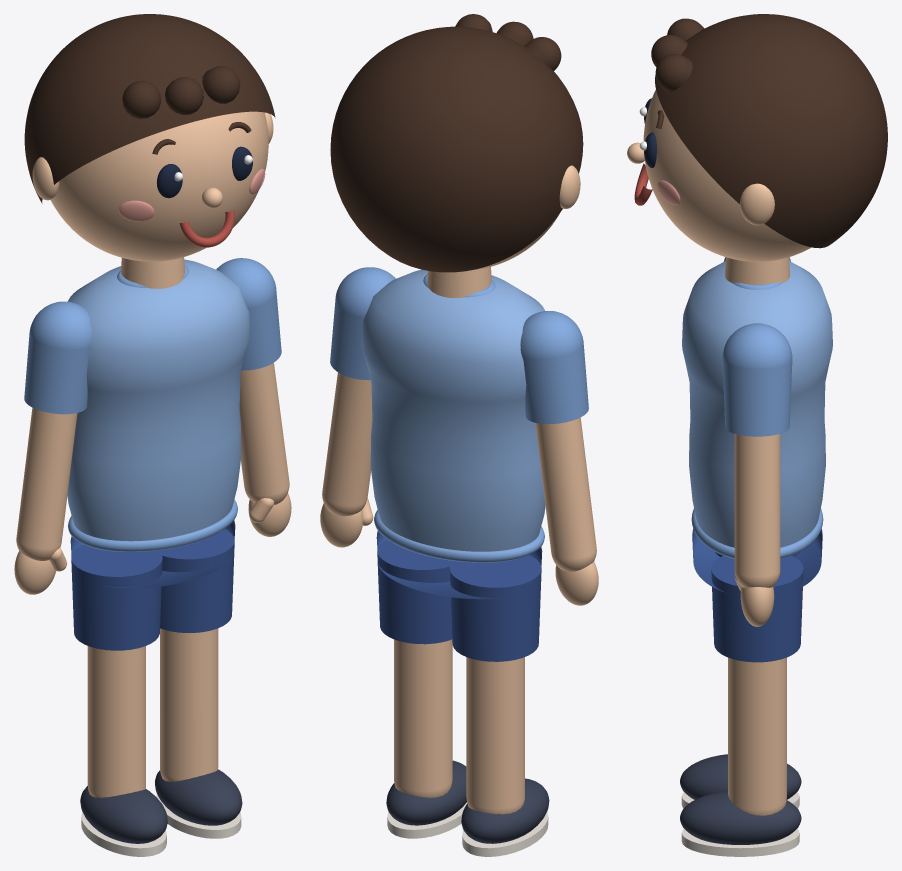
The model's file is boneco-provisorio-menino.glb.
The picture shows the model from 3 angles, left to right: view 1: azimuth 30°, elevation 25°; view 2: azimuth 150°, elevation 25°; view 3: azimuth 270°, elevation 25°; orthographic projection.
Visible parts, largest first — view 1: regiao_pernas, fixo_detalhe (×7), regiao_peito, regiao_bracos, regiao_cabeca, regiao_barriga, regiao_pes, regiao_maos, regiao_garganta; view 2: fixo_detalhe (×3), regiao_pernas, regiao_peito, regiao_bracos, regiao_barriga, regiao_pes, regiao_maos, regiao_garganta, regiao_cabeca; view 3: fixo_detalhe (×4), regiao_pernas, regiao_peito, regiao_bracos, regiao_barriga, regiao_cabeca, regiao_pes, regiao_garganta, regiao_maos.
Part boxes in pixels (left/top/right/bottom): regiao_pernas: left=70, top=520, right=235, bottom=797; fixo_detalhe (×7): left=24, top=14, right=275, bottom=247; regiao_peito: left=68, top=259, right=250, bottom=430; regiao_bracos: left=16, top=258, right=289, bottom=560; regiao_cabeca: left=32, top=111, right=273, bottom=261; regiao_barriga: left=67, top=393, right=241, bottom=551; regiao_pes: left=80, top=769, right=242, bottom=856; regiao_maos: left=14, top=493, right=291, bottom=594; regiao_garganta: left=121, top=257, right=184, bottom=288; fixo_detalhe (×3): left=330, top=21, right=583, bottom=272; regiao_pernas: left=376, top=531, right=542, bottom=814; regiao_peito: left=361, top=269, right=544, bottom=440; regiao_bracos: left=322, top=267, right=596, bottom=571; regiao_barriga: left=370, top=403, right=545, bottom=562; regiao_pes: left=386, top=760, right=549, bottom=856; regiao_maos: left=320, top=498, right=598, bottom=605; regiao_garganta: left=427, top=267, right=491, bottom=297; regiao_cabeca: left=472, top=165, right=580, bottom=270; fixo_detalhe (×4): left=651, top=14, right=887, bottom=248; regiao_pernas: left=692, top=528, right=822, bottom=815; regiao_peito: left=682, top=261, right=832, bottom=436; regiao_bracos: left=722, top=257, right=792, bottom=587; regiao_barriga: left=689, top=401, right=825, bottom=558; regiao_cabeca: left=627, top=90, right=811, bottom=261; regiao_pes: left=680, top=754, right=801, bottom=856; regiao_garganta: left=724, top=257, right=790, bottom=284; regiao_maos: left=734, top=575, right=774, bottom=626.
Bounding box in the file's own units: 1.14 × 3.14 × 0.9323.
